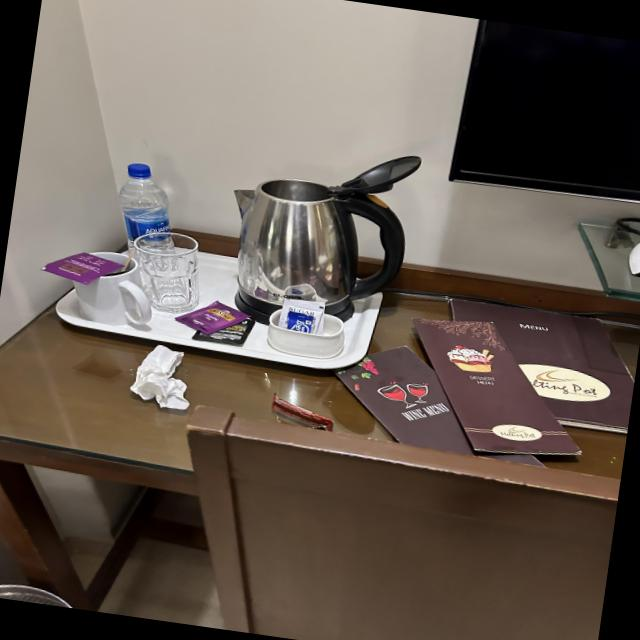mess: (0, 119, 640, 524)
